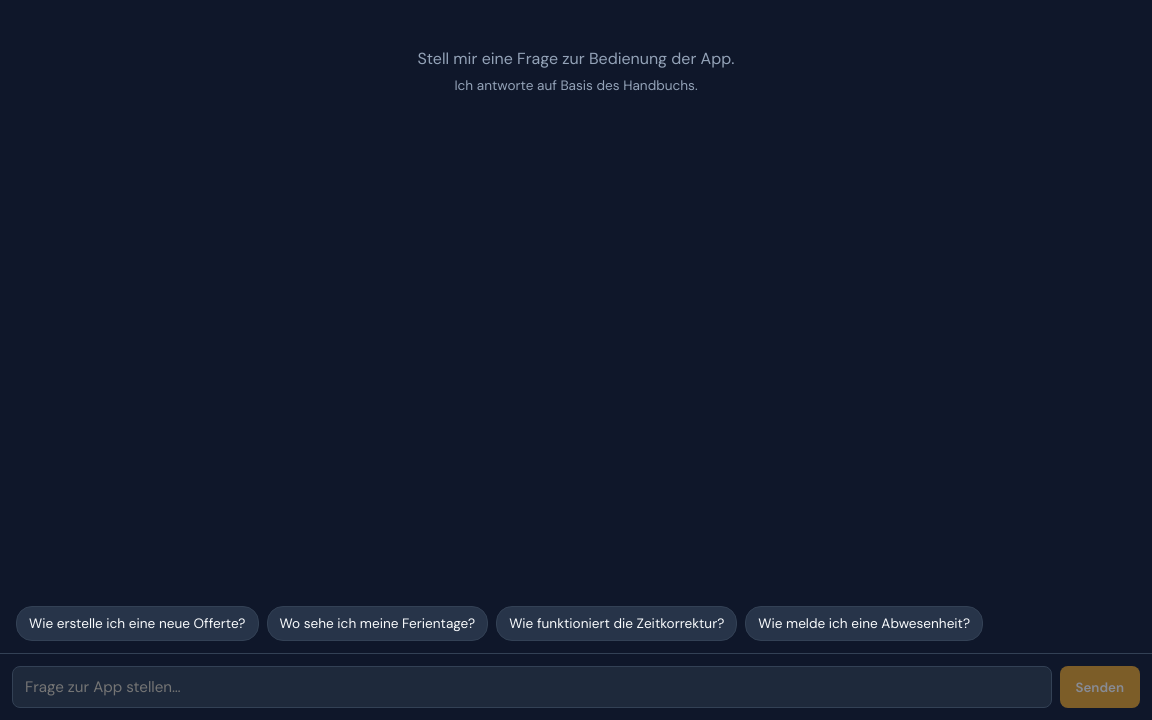
Scenario: HelpBot — Links in der Antwort › lässt unerlaubte und erfundene Links als reinen Text stehen
In the text box with placeholder "Frage zur App stellen…": (532, 687) x1=12 y1=666 x2=1052 y2=708, type "Wo sehe ich den Umsatz?"
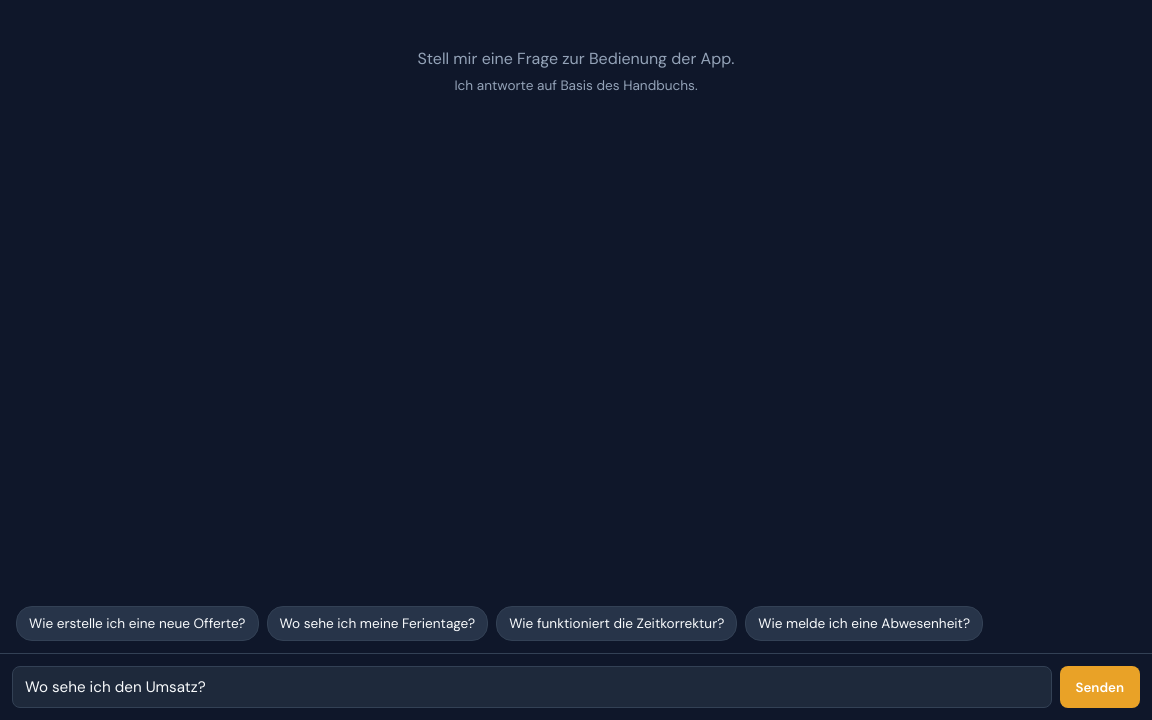
Click the button "Senden": click(1100, 687) x1=1060 y1=666 x2=1140 y2=708
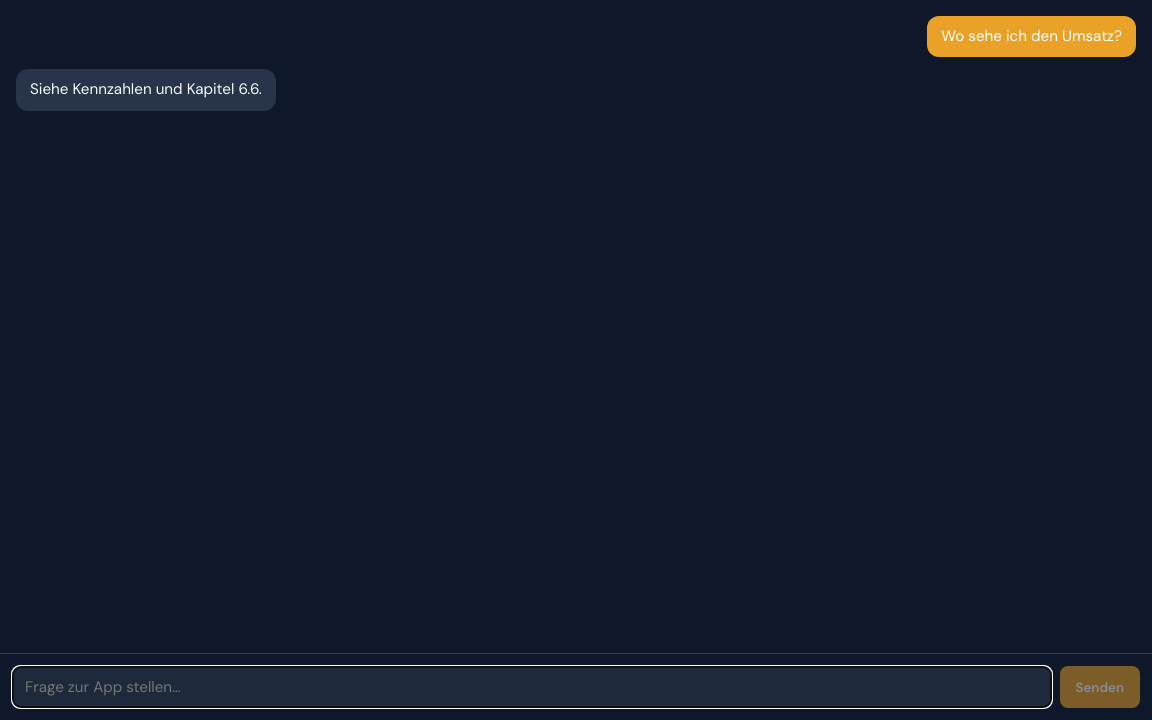
Result: the text "Siehe Kennzahlen und Kapitel 6.6." is shown at x1=30 y1=79 x2=262 y2=101
